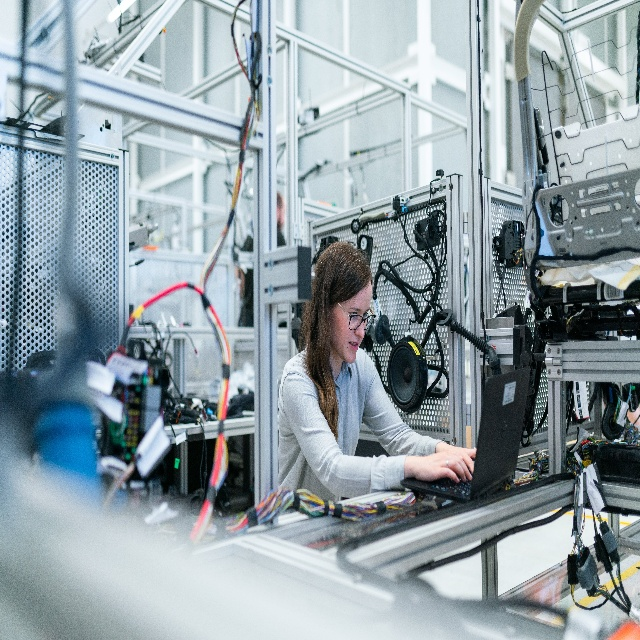Gafas: (348, 308, 374, 332)
Sin_guantes: (412, 450, 475, 483)
